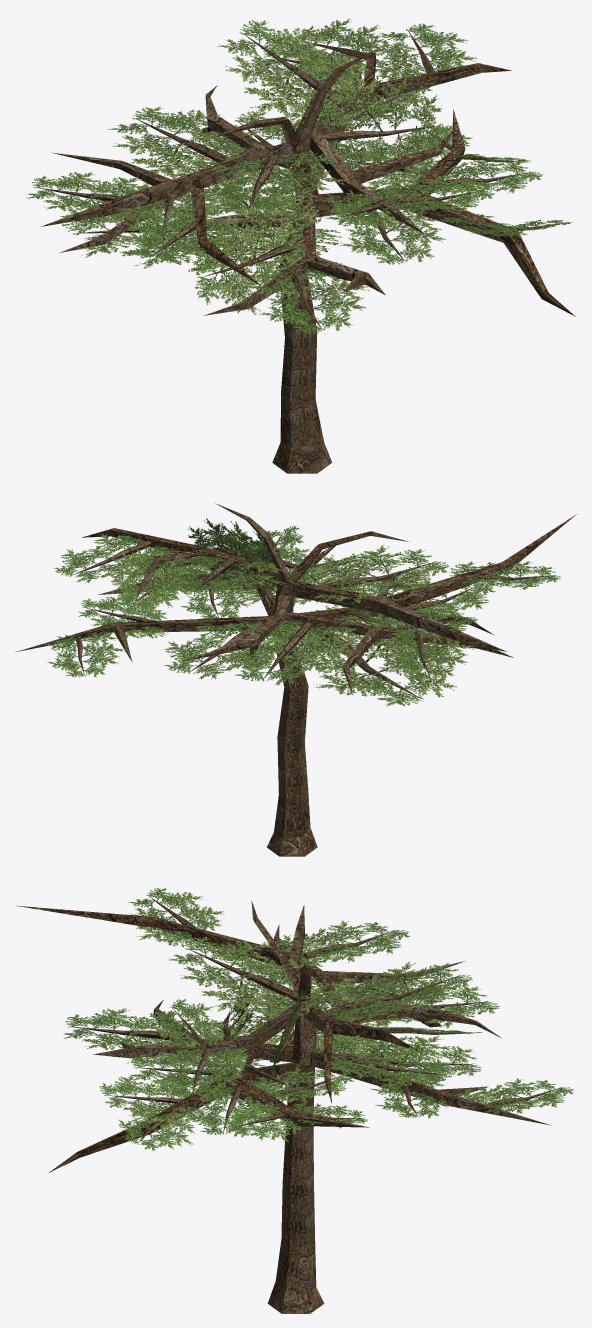
The model's file is LowPolyElm_2.fbx.
The picture shows the model from 3 angles, top to bottom: view 1: azimuth 30°, elevation 25°; view 2: azimuth 150°, elevation 25°; view 3: azimuth 270°, elevation 25°; orthographic projection. The views are drawn at different scales.
Parts seen in each view (by area): view 1: Tree Trunk, Branch.020, Branch.002, Branch.021, Branch.019, Branch.005, Branch.011, Branch.016, Branch.001, Branch.017, Branch.003, Branch.018 (+10 smaller); view 2: Tree Trunk, Branch.019, Branch.011, Branch.005, Branch, Branch.013, Branch.001, Branch.002, Branch.003, Branch.020, Branch.006, Branch.007 (+9 smaller); view 3: Tree Trunk, Branch.011, Branch.002, Branch.001, Branch.016, Branch.003, Branch, Branch.014, Branch.018, Branch.023, Branch.005, Branch.006 (+12 smaller).
Boxes of the visible parts, left/top/right/bottom form: Tree Trunk: left=40, top=43, right=575, bottom=473; Branch.020: left=302, top=67, right=450, bottom=180; Branch.002: left=218, top=20, right=368, bottom=127; Branch.021: left=191, top=190, right=322, bottom=315; Branch.019: left=60, top=176, right=341, bottom=284; Branch.005: left=108, top=106, right=262, bottom=181; Branch.011: left=192, top=151, right=348, bottom=214; Branch.016: left=247, top=262, right=369, bottom=333; Branch.001: left=360, top=23, right=477, bottom=88; Branch.017: left=325, top=201, right=446, bottom=264; Branch.003: left=26, top=172, right=155, bottom=226; Branch.018: left=126, top=212, right=240, bottom=263; Tree Trunk: left=15, top=503, right=576, bottom=856; Branch.019: left=273, top=604, right=457, bottom=706; Branch.011: left=287, top=545, right=449, bottom=604; Branch.005: left=227, top=620, right=361, bottom=685; Branch: left=164, top=614, right=299, bottom=679; Branch.013: left=109, top=549, right=190, bottom=613; Branch.001: left=54, top=534, right=180, bottom=583; Branch.002: left=156, top=556, right=285, bottom=594; Branch.003: left=380, top=626, right=473, bottom=680; Branch.020: left=187, top=518, right=282, bottom=597; Branch.006: left=44, top=632, right=125, bottom=677; Branch.007: left=78, top=596, right=168, bottom=639; Tree Trunk: left=16, top=901, right=550, bottom=1313; Branch.011: left=167, top=936, right=323, bottom=1016; Branch.002: left=295, top=961, right=472, bottom=1024; Branch.001: left=319, top=1035, right=450, bottom=1086; Branch.016: left=63, top=1008, right=196, bottom=1065; Branch.003: left=275, top=920, right=410, bottom=962; Branch: left=316, top=1033, right=481, bottom=1083; Branch.014: left=155, top=1046, right=248, bottom=1098; Branch.018: left=128, top=887, right=224, bottom=947; Branch.023: left=99, top=1074, right=204, bottom=1129; Branch.005: left=316, top=977, right=499, bottom=1028; Branch.006: left=456, top=1078, right=573, bottom=1114.
Bounding box in the file's own units: 2854 × 2180 × 3020.
